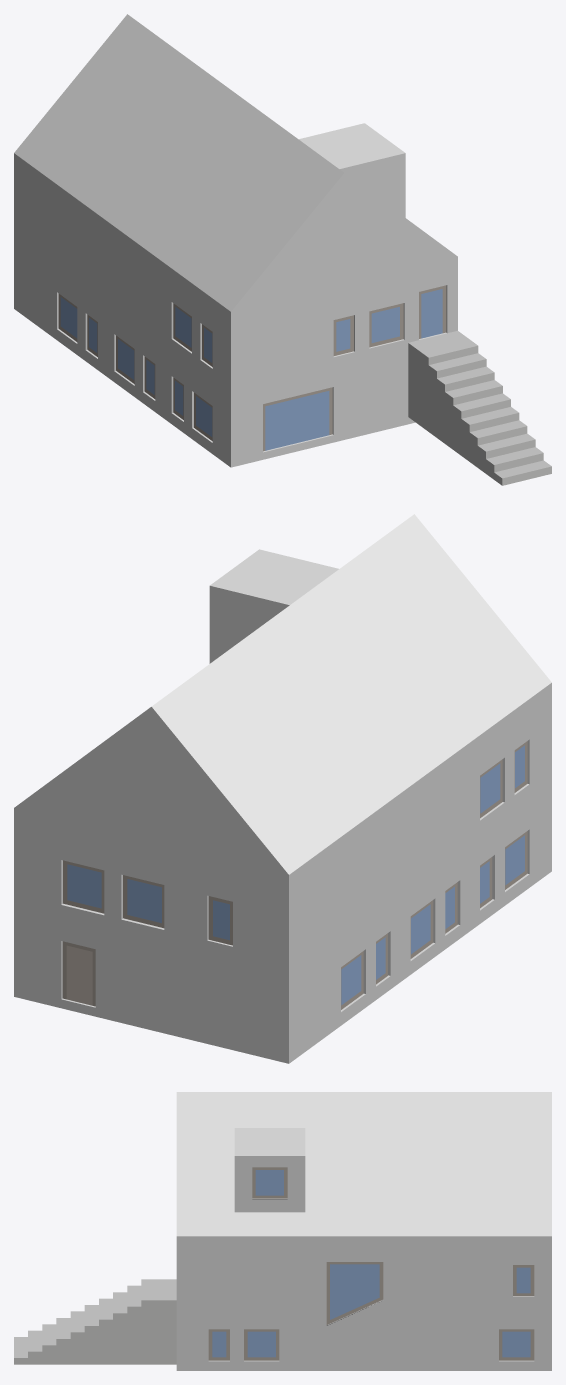
File: Wereld3.fbx
3 views of the same model, one above another, from view 1: azimuth 30°, elevation 25°; view 2: azimuth 150°, elevation 25°; view 3: azimuth 270°, elevation 25° (orthographic). The views are drawn at different scales.
Visible parts, largest first — view 1: Camera, n_raam_tra, n_ondergro, n_deur_g01, n_deur_g03, n_deur_g02, n_deur_gla, n_raam_d7; view 2: Camera, n_raam_tra, n_ondergro, n_deur1, n_raam_d9, n_raam_d8, n_raam_d1, n_raam_d4, n_raam_d2, n_raam_d3, n_kozijn14; view 3: Camera, n_raam_tra, n_ondergro, n_raam_d6, n_raam_d5, n_raam_d10, n_kozijn06, n_kozijn17, n_kozijn02, n_raam5, n_raam4, n_kozijn03 (+1 smaller).
Part boxes in pixels (box(x1,y1,x2,y2)): Camera: box(14, 14, 551, 485); n_raam_tra: box(14, 153, 457, 459); n_ondergro: box(14, 301, 415, 467); n_deur_g01: box(286, 396, 307, 445); n_deur_g03: box(421, 289, 442, 338); n_deur_g02: box(265, 401, 286, 450); n_deur_gla: box(308, 391, 329, 440); n_raam_d7: box(371, 307, 399, 342); Camera: box(14, 514, 551, 874); n_raam_tra: box(14, 683, 551, 1054); n_ondergro: box(14, 862, 551, 1063); n_deur1: box(66, 945, 92, 1005); n_raam_d9: box(127, 879, 161, 923); n_raam_d8: box(67, 864, 101, 908); n_raam_d1: box(341, 955, 361, 1005); n_raam_d4: box(480, 763, 500, 813); n_raam_d2: box(411, 904, 430, 954); n_raam_d3: box(505, 835, 524, 884); n_kozijn14: box(63, 860, 104, 913); Camera: box(14, 1092, 551, 1364); n_raam_tra: box(176, 1236, 551, 1364); n_ondergro: box(176, 1364, 551, 1370); n_raam_d6: box(502, 1331, 530, 1357); n_raam_d5: box(247, 1331, 275, 1357); n_raam_d10: box(255, 1170, 283, 1195); n_kozijn06: box(499, 1329, 534, 1360); n_kozijn17: box(252, 1167, 287, 1198); n_kozijn02: box(244, 1329, 279, 1360); n_raam5: box(516, 1267, 530, 1293); n_raam4: box(212, 1331, 226, 1357); n_kozijn03: box(208, 1329, 229, 1360).
Bounding box in the file's own units: 3.2 × 3.6 × 7.6.
